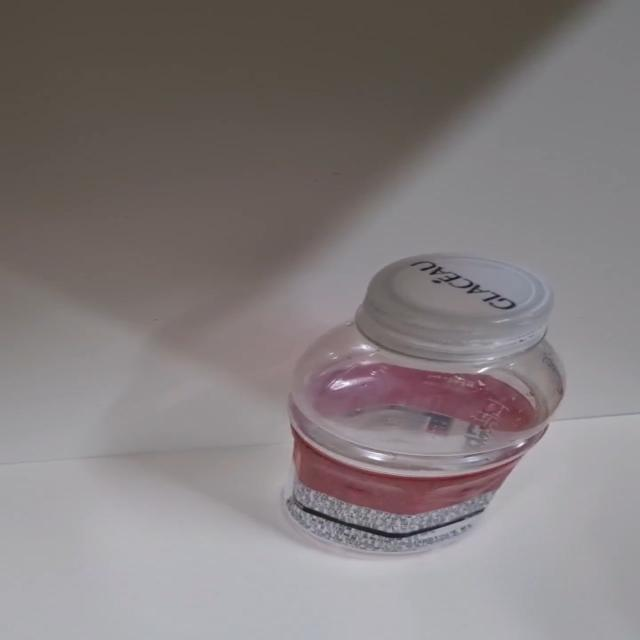Plastic: (280, 254, 566, 562)
